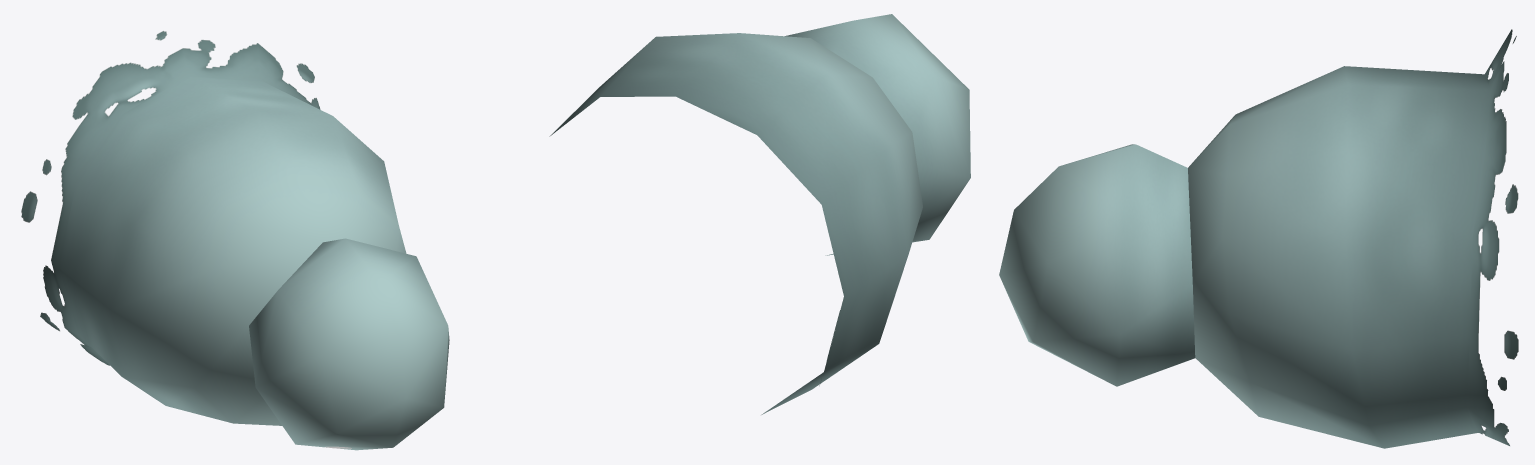
Rendered from model_snowman.glb.
3 renders of one model, left to right at view 1: azimuth 30°, elevation 25°; view 2: azimuth 150°, elevation 25°; view 3: azimuth 270°, elevation 25°, orthographic. The views are drawn at different scales.
Parts seen in each view (by area): view 1: ice.model_snowman-MeshNodes["bone_root"]; view 2: ice.model_snowman-MeshNodes["bone_root"]; view 3: ice.model_snowman-MeshNodes["bone_root"].
Boxes of the visible parts, x1,y1,x2,y2 form: ice.model_snowman-MeshNodes["bone_root"]: (21,30,449,450); ice.model_snowman-MeshNodes["bone_root"]: (549,14,970,414); ice.model_snowman-MeshNodes["bone_root"]: (999,29,1518,448).
Size of the model in its own units: 1.24 by 1.3 by 1.53.
Materials: 2 (2 with a texture image).
